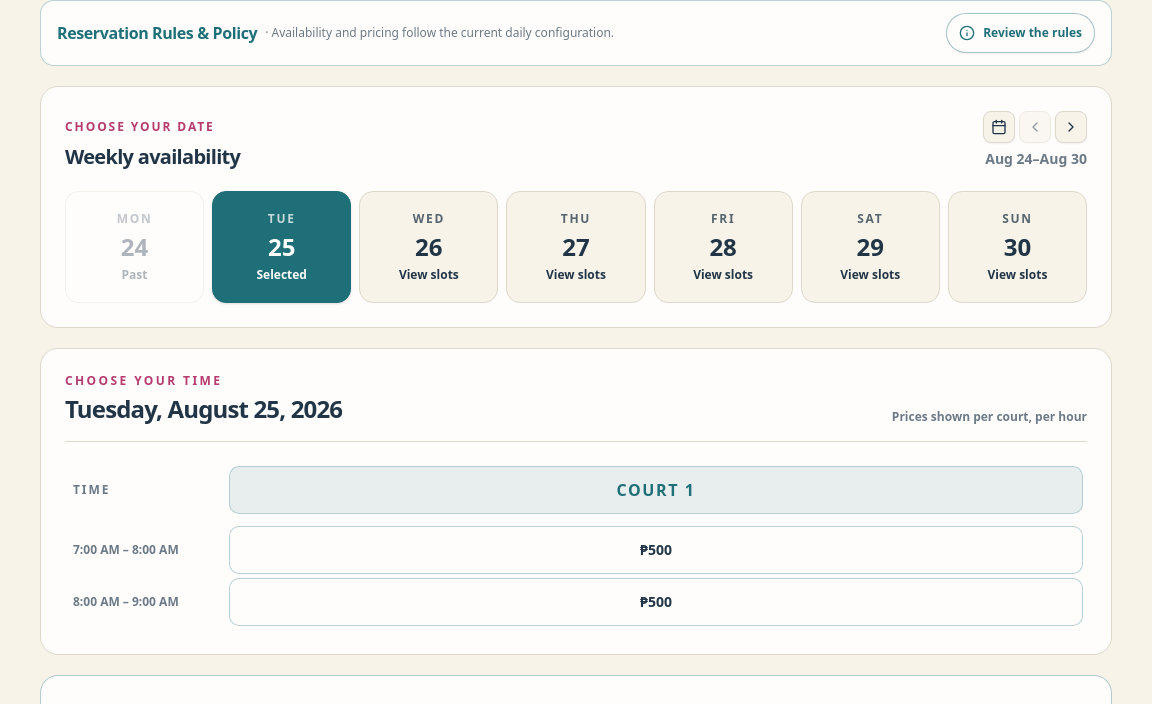
Test case: ReservationExperience › switches between related policies inside the dialog
Click the button "Review the rules" at (1021, 33), box x1=946 y1=13 x2=1095 y2=53
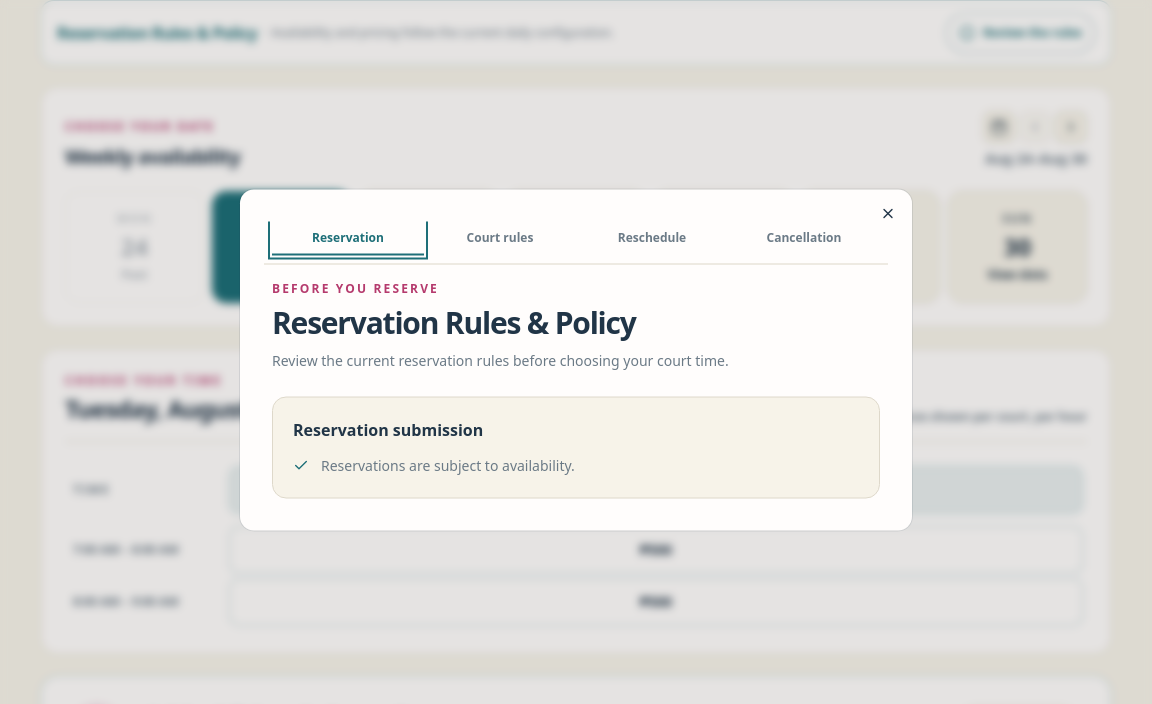
Click the button with aria-label "Review Court Rules & Policy" at (500, 238), box x1=424 y1=222 x2=576 y2=256
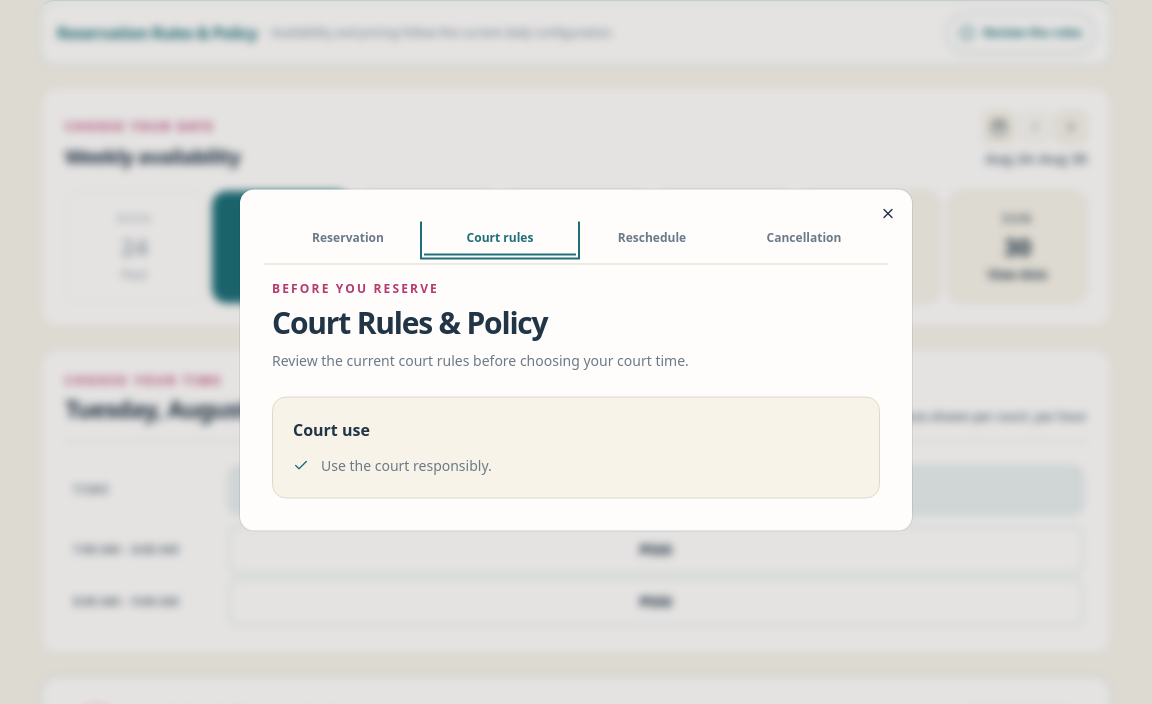
Result: the dialog is shown at x1=240 y1=190 x2=912 y2=530
Result: the heading "Court Rules & Policy" is shown at x1=272 y1=302 x2=547 y2=342
Result: the text "Use the court responsibly." is shown at x1=321 y1=454 x2=492 y2=478
Click the button with aria-label "Review Reschedule Policy" at (652, 238), box x1=576 y1=222 x2=728 y2=256
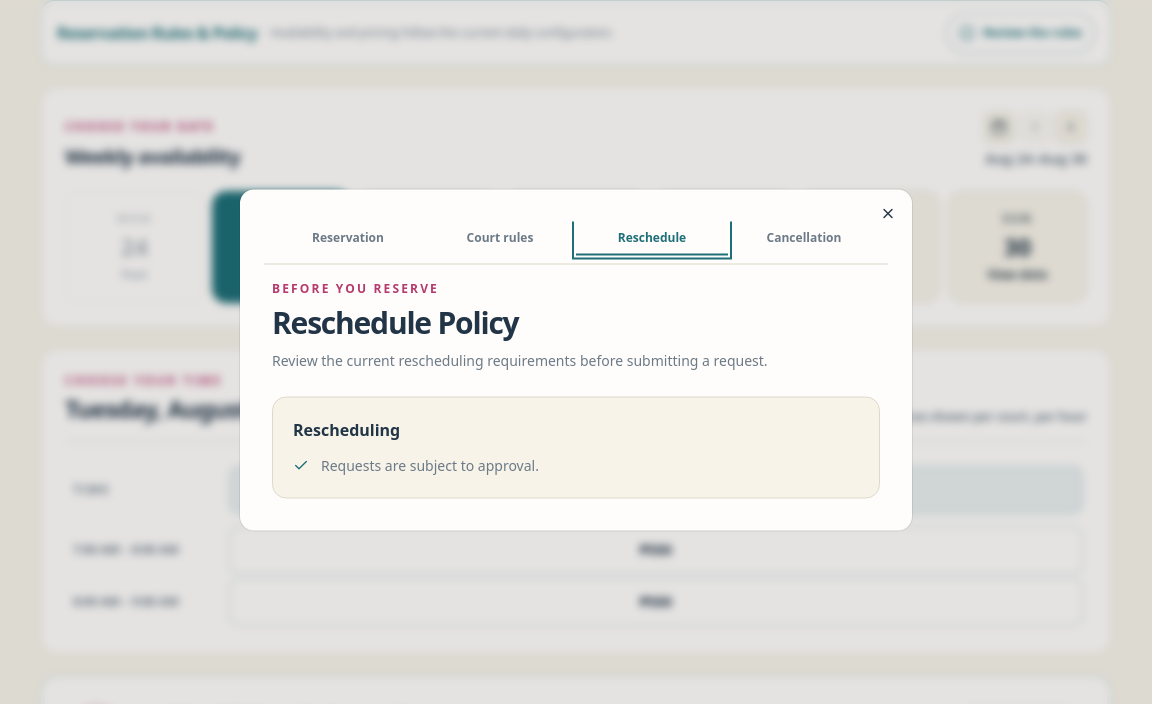
Result: the heading "Reschedule Policy" is shown at x1=272 y1=302 x2=518 y2=342
Result: the text "Requests are subject to approval." is shown at x1=321 y1=454 x2=539 y2=478
